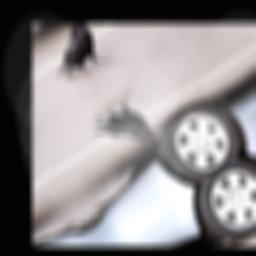Crow: (83, 84, 167, 170)
